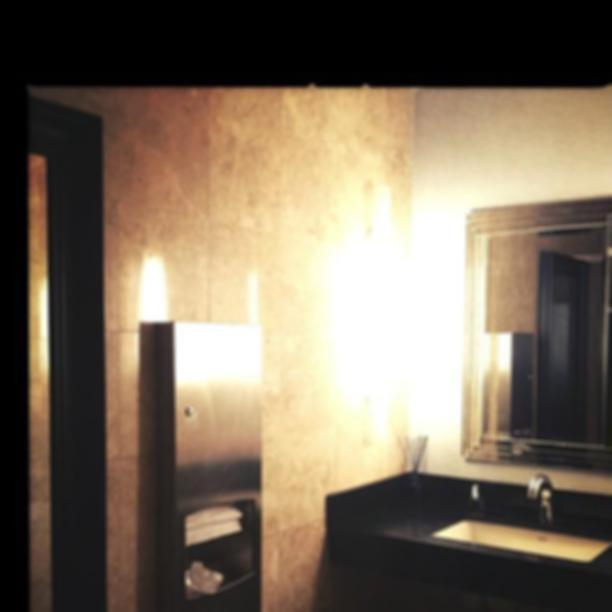Lavamanos: (430, 472, 612, 571)
